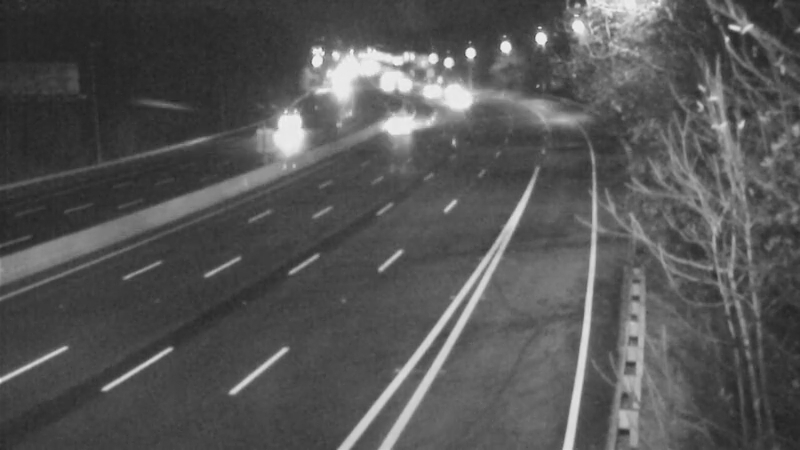vehicle: (380, 59, 430, 109), (403, 65, 453, 115), (427, 66, 477, 116), (441, 74, 491, 124), (375, 98, 425, 148), (265, 110, 315, 160)
